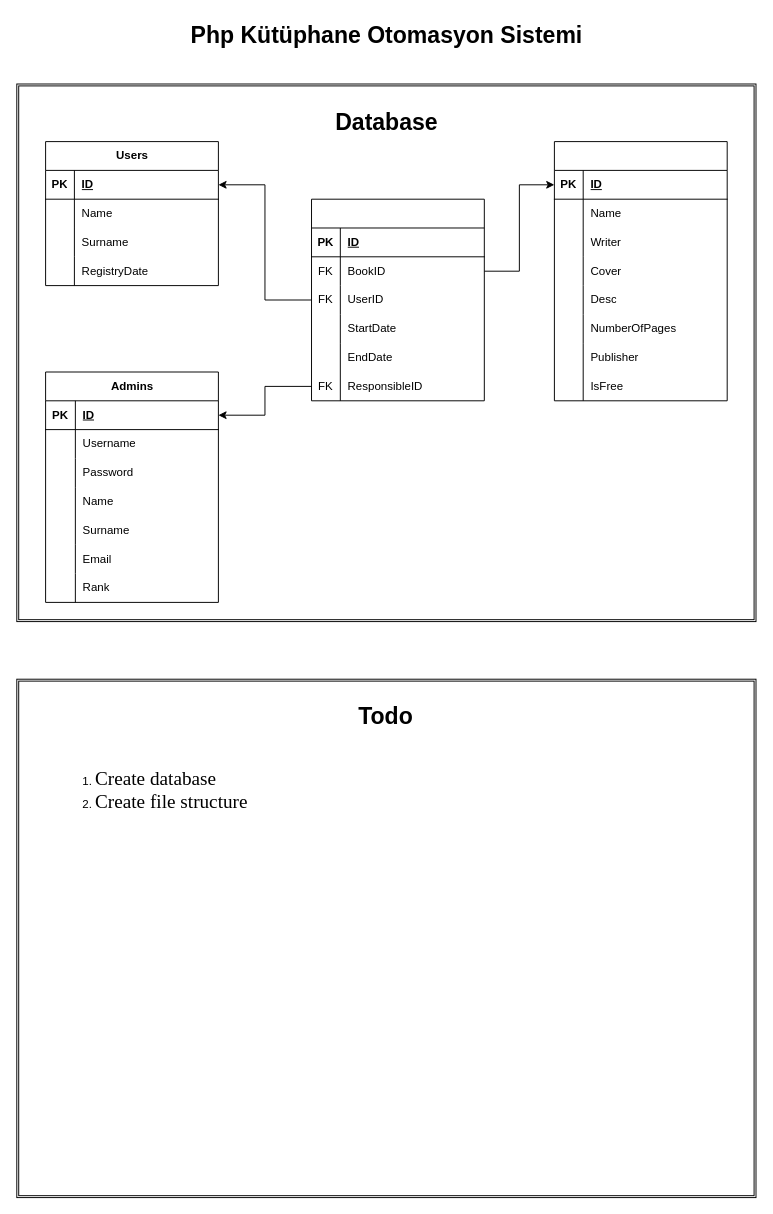
The diagram is 773 pixels wide and 1214 high, and some of its shapes have lost their labels. Each missing label, with the box of its shape:
Books: (553, 141, 727, 401)
History: (311, 198, 484, 401)
